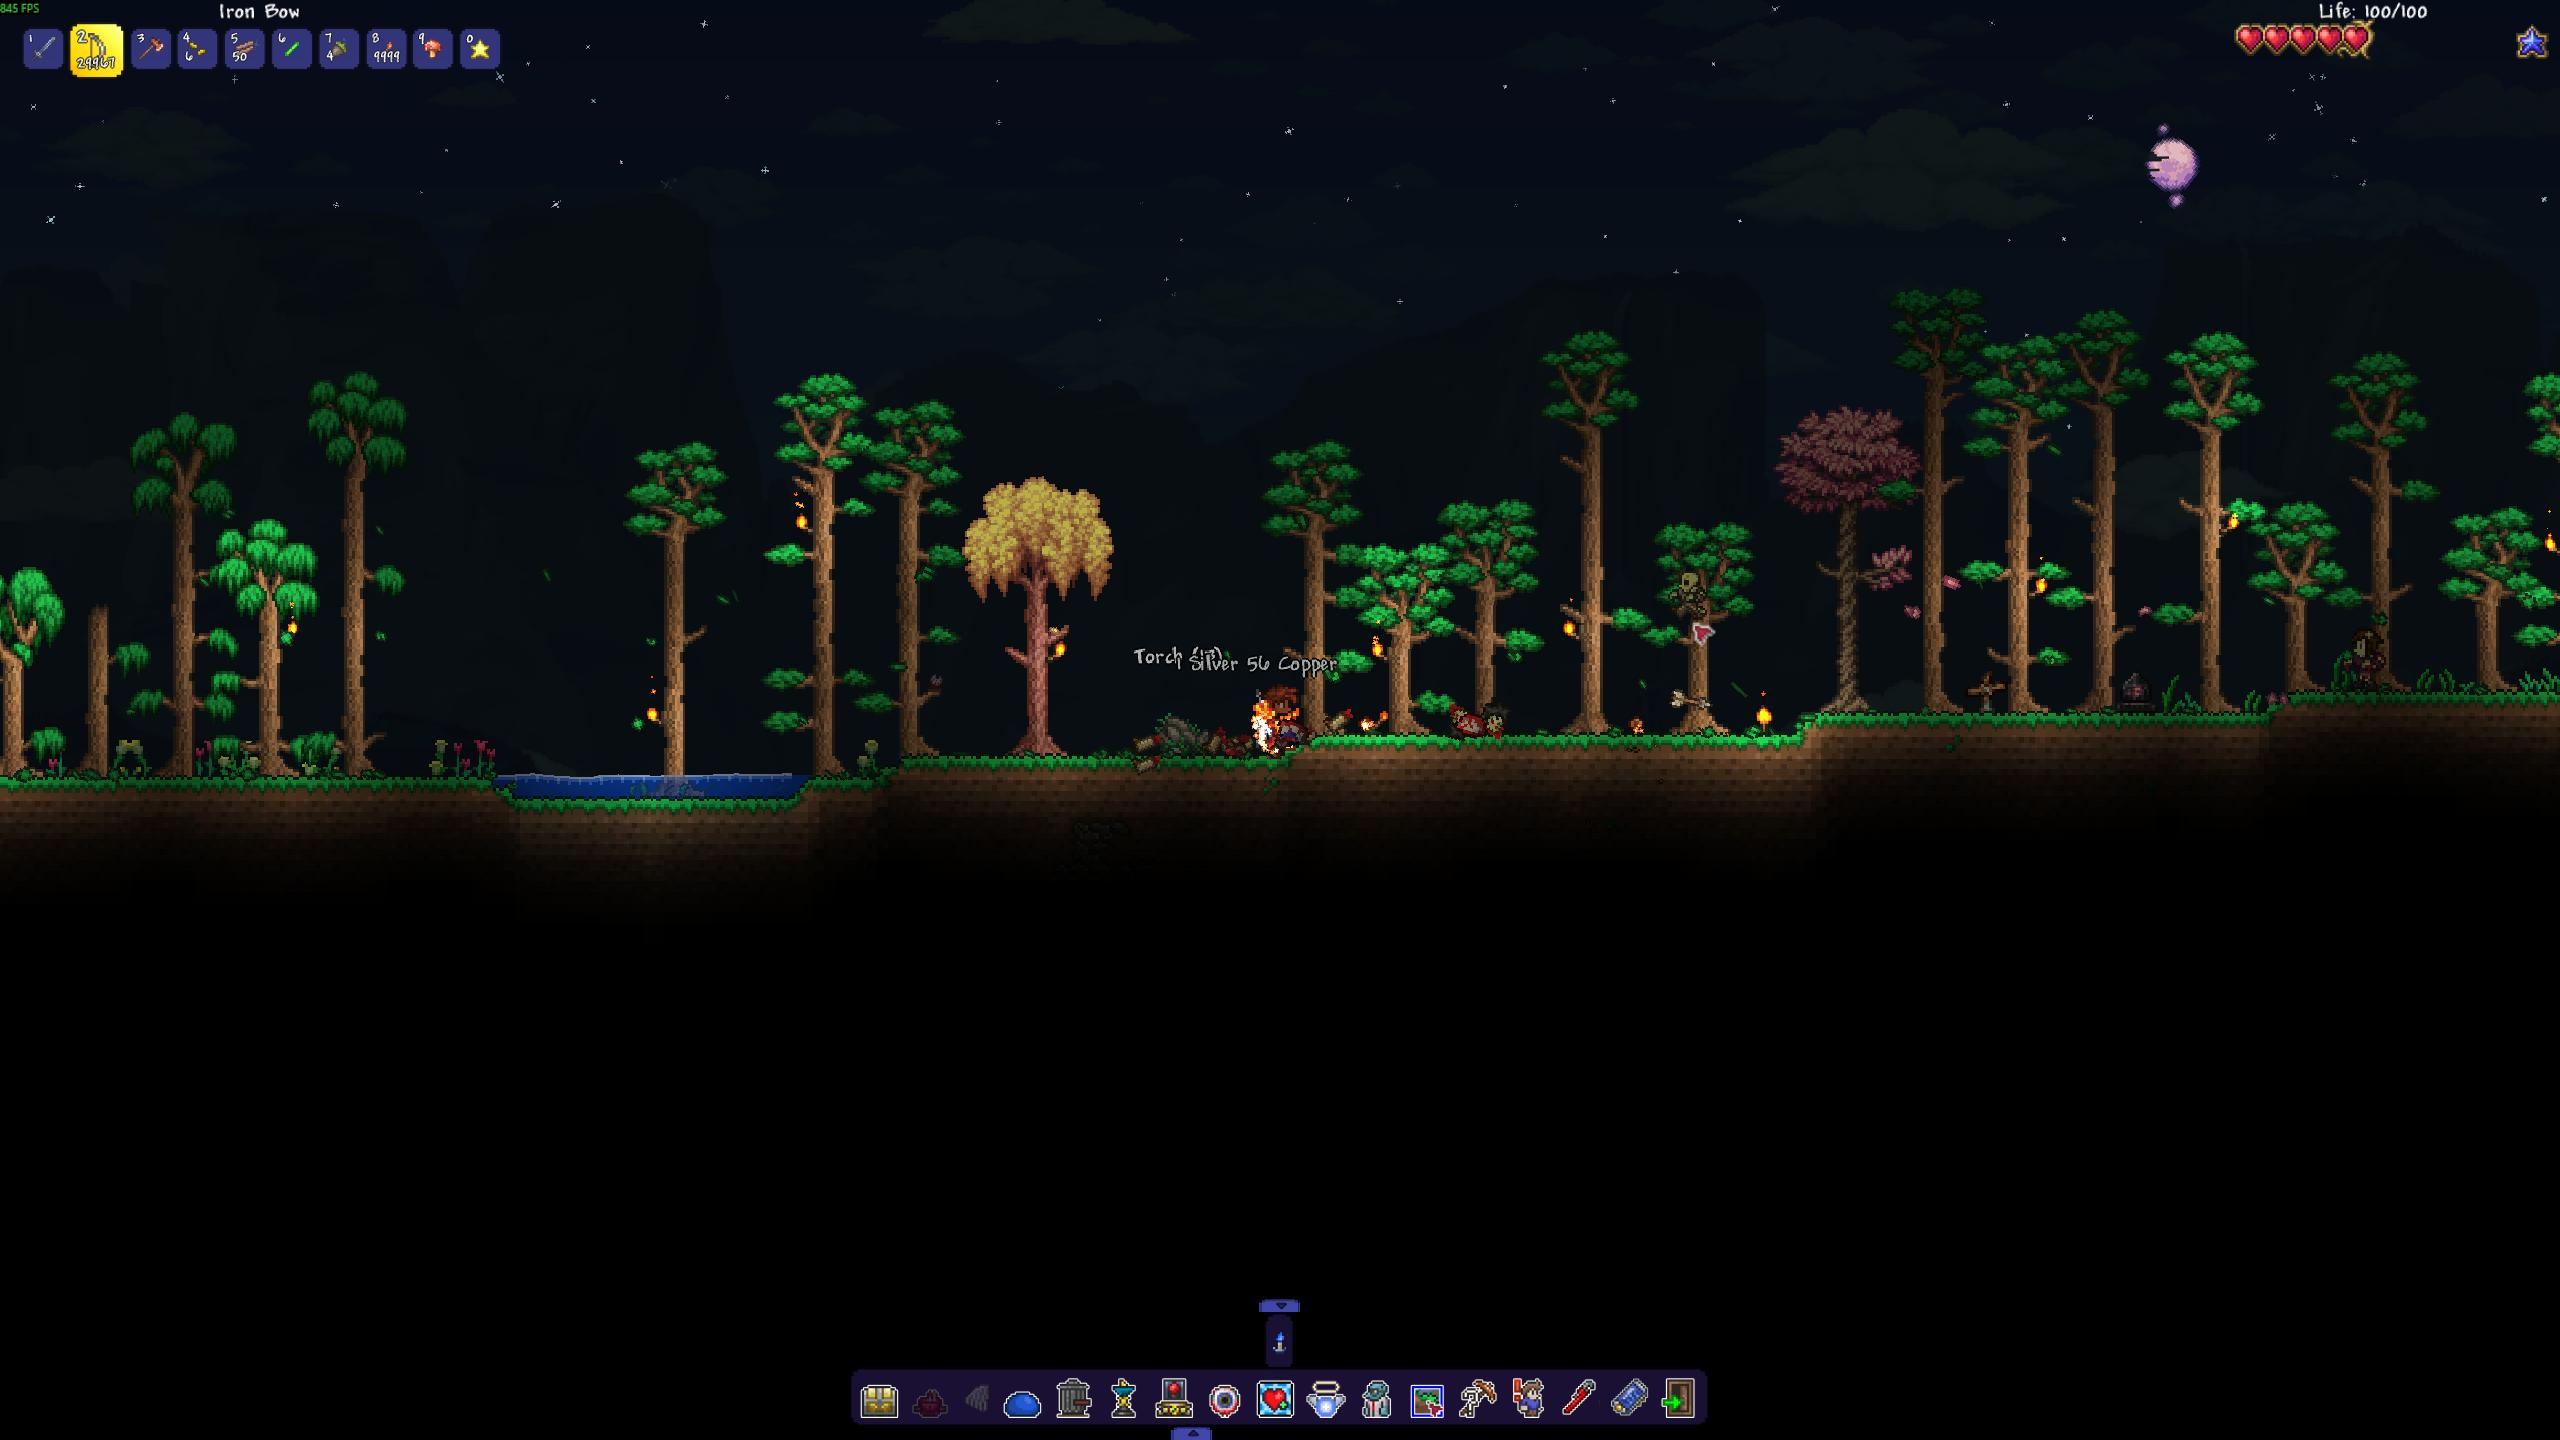Zombie: (2338, 626, 2389, 691), (1663, 566, 1711, 624)
